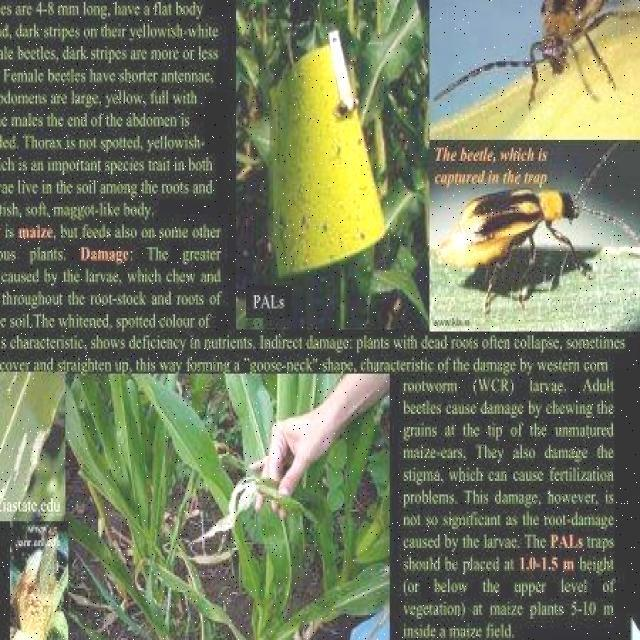trips: (441, 142, 640, 310), (435, 0, 640, 105)
